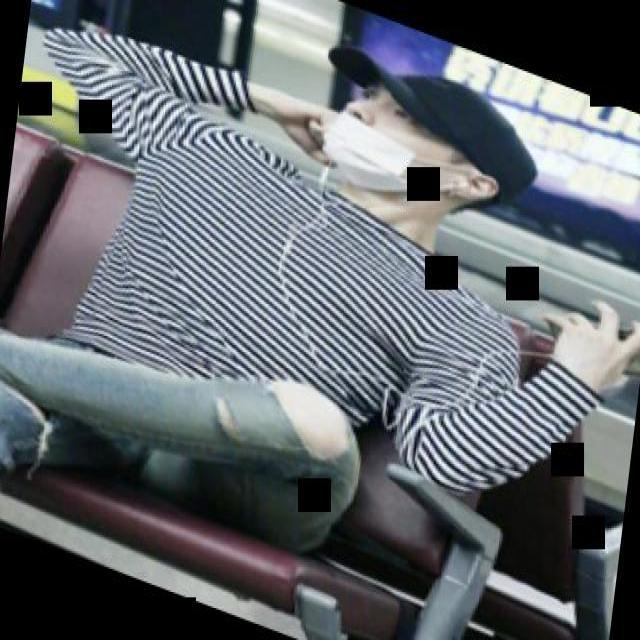hairnet: (321, 93, 422, 193)
